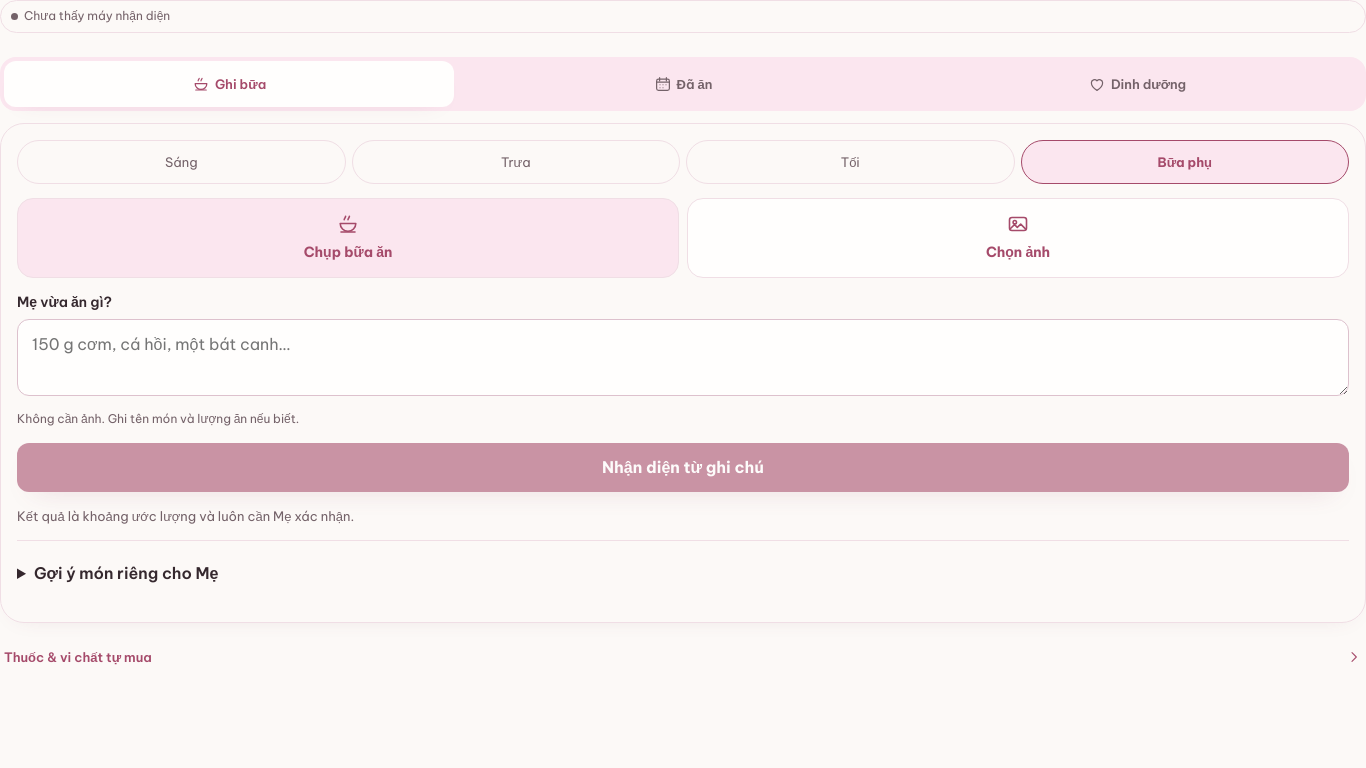
Test case: mobile meal journal › offers fast Vietnamese dish suggestions even when the mother types without accents
Type "bun rieu" into the text box named "Ghi chú món ăn · có thể lưu không cần ảnh".
click(683, 358); type("bun rieu")  # box [17,319,1349,396]
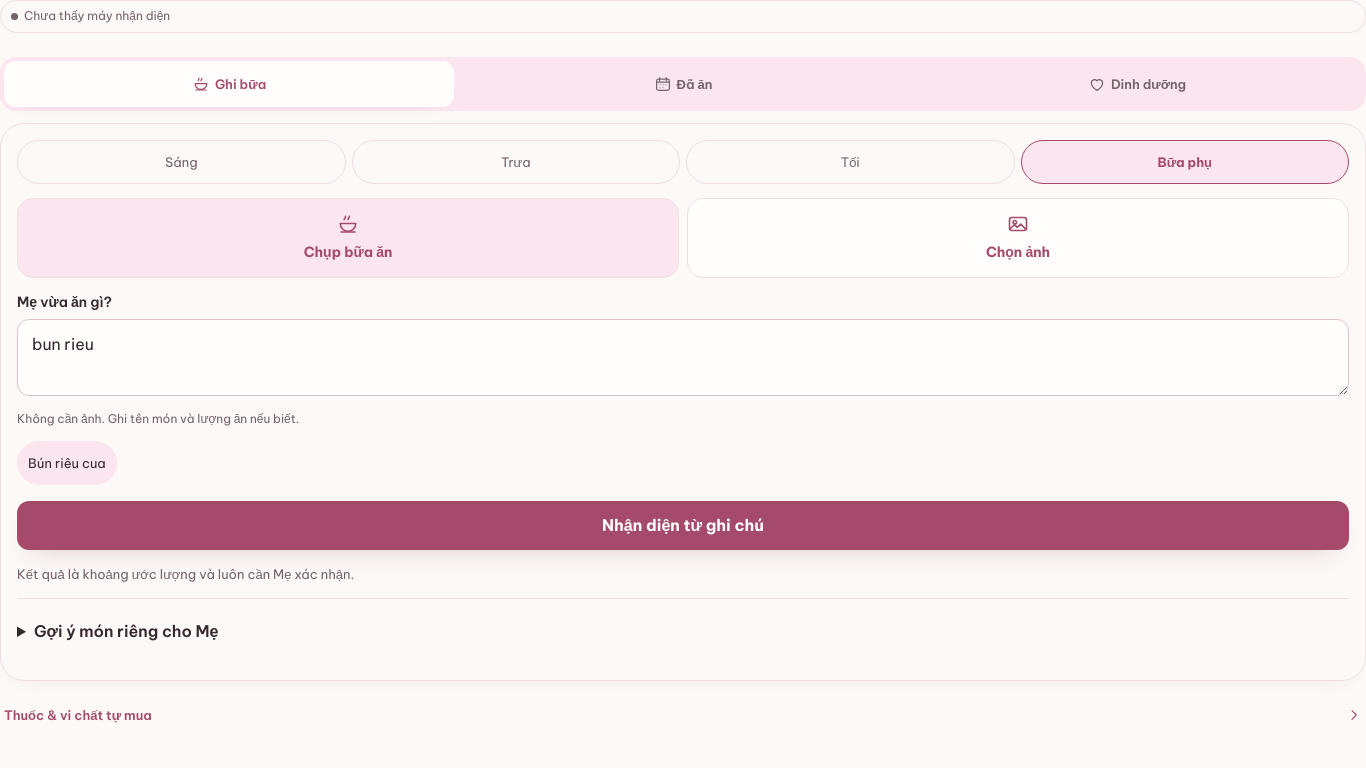
Expected: the button "Bún riêu cua" is enabled
Click the button "Bún riêu cua".
click(67, 463)  # box [17,441,117,485]
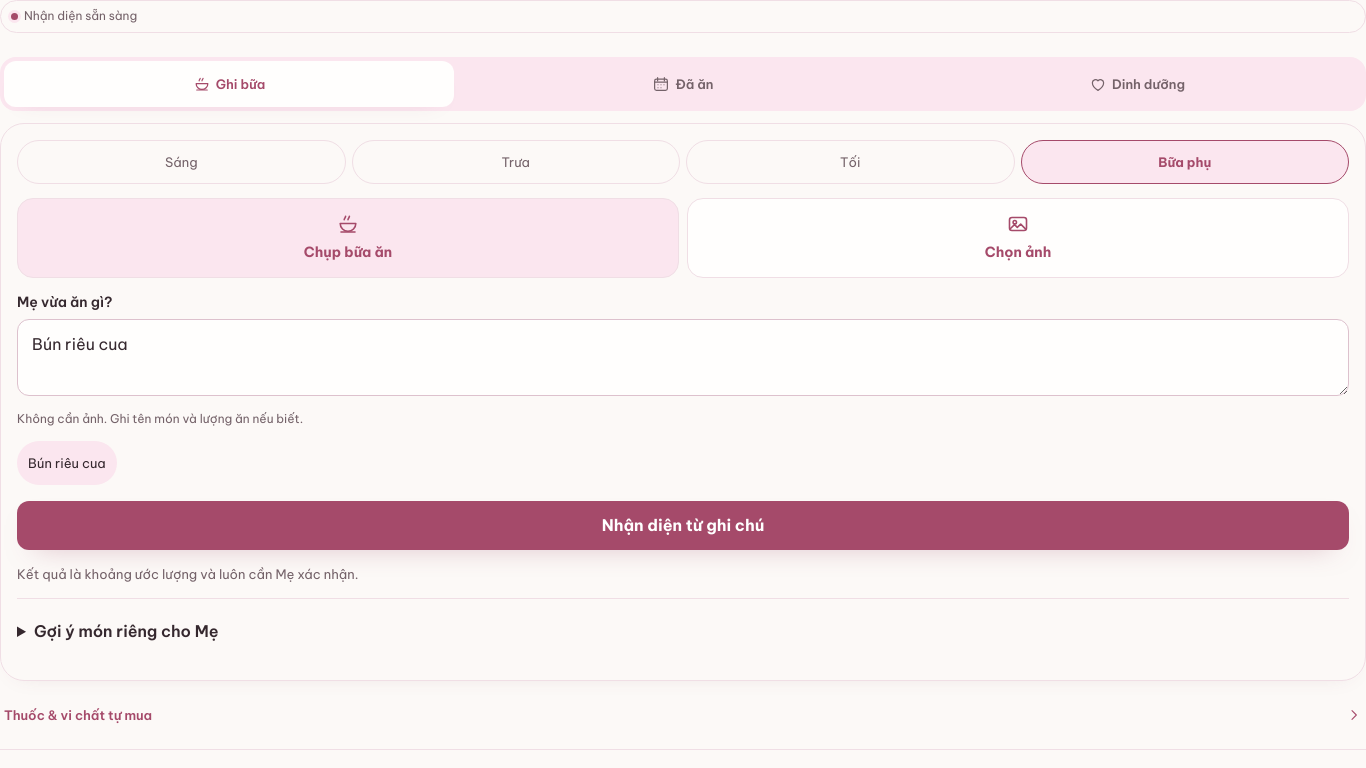
Expected: the text box named "Ghi chú món ăn · có thể lưu không cần ảnh" holds "Bún riêu cua", [17,319,1349,396]
